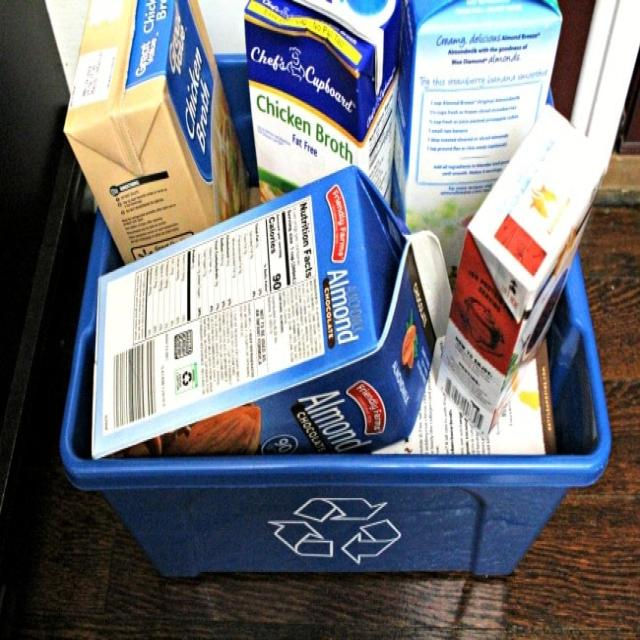cardboard: (95, 173, 445, 455), (453, 117, 599, 439), (67, 0, 233, 229), (396, 0, 552, 229), (236, 0, 400, 189)
